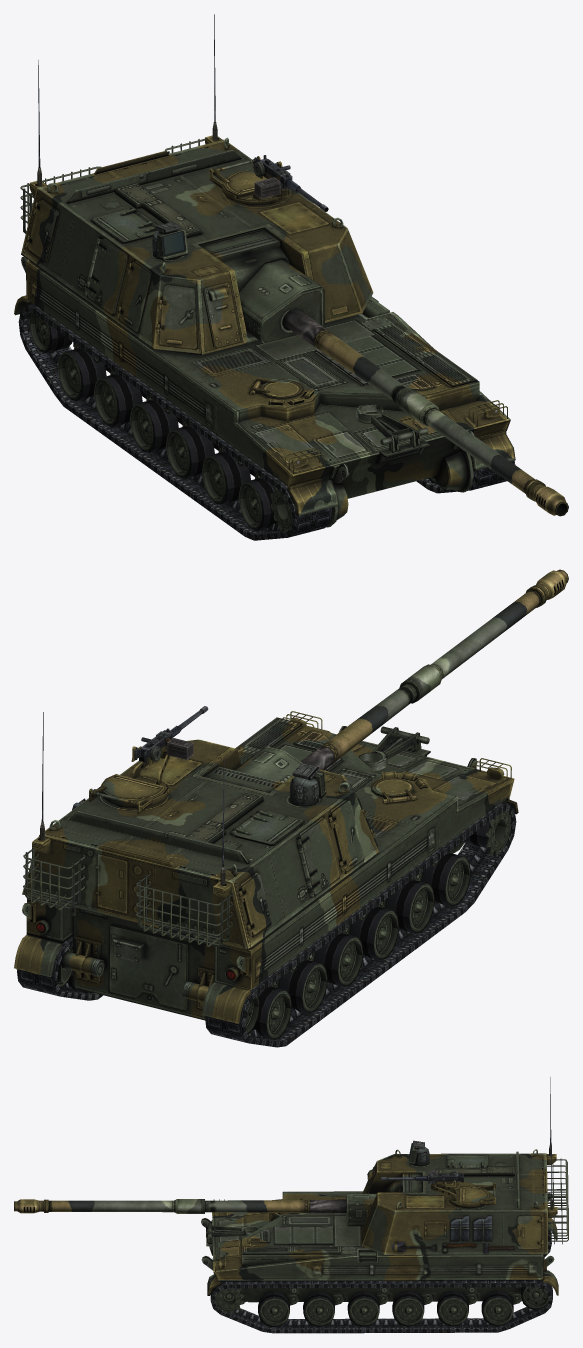
The model's file is artillery_howitzer.glb.
3 renders of one model, top to bottom at view 1: azimuth 30°, elevation 25°; view 2: azimuth 150°, elevation 25°; view 3: azimuth 270°, elevation 25°, orthographic. The views are drawn at different scales.
Parts seen in each view (by area): view 1: skfb_offset; view 2: skfb_offset; view 3: skfb_offset.
Boxes of the visible parts, left/top/right/bottom form: skfb_offset: left=14, top=14, right=568, bottom=540; skfb_offset: left=14, top=569, right=568, bottom=1047; skfb_offset: left=14, top=1077, right=568, bottom=1333.
Size of the model in its own units: 76159 by 100105 by 256509.
Materials: 2 (2 with a texture image).
